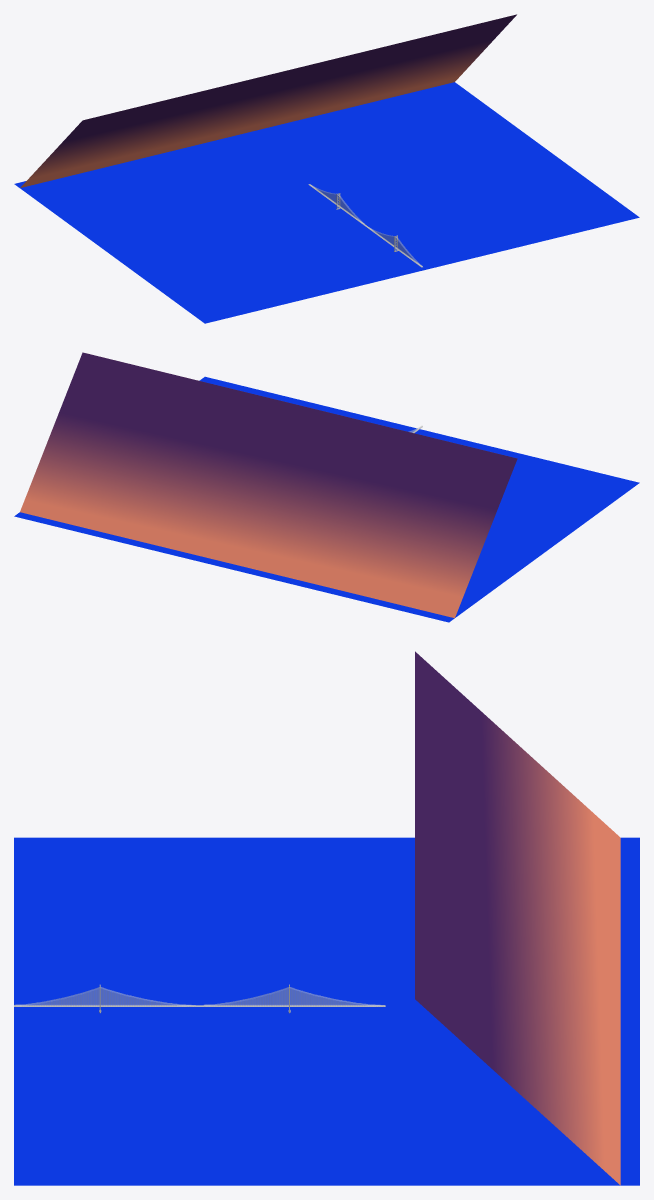
Rendered from asset.glb.
3 views of the same model, one above another, from view 1: azimuth 30°, elevation 25°; view 2: azimuth 150°, elevation 25°; view 3: azimuth 270°, elevation 25° (orthographic). The views are drawn at different scales.
Visible parts, largest first — view 1: umi, sora, turibasi; view 2: sora, umi; view 3: umi, sora, turibasi, michi.
Part boxes in pixels (x1,y1,x2,y2): umi: (14, 82, 639, 323); sora: (20, 14, 516, 187); turibasi: (309, 184, 422, 266); sora: (20, 352, 517, 618); umi: (14, 376, 639, 622); umi: (14, 837, 639, 1185); sora: (415, 651, 620, 1185); turibasi: (14, 986, 385, 1006); michi: (14, 1005, 385, 1006).
Size of the model in its own units: 0.8 by 0.2 by 0.6082.
Materials: 4 (2 with a texture image).
